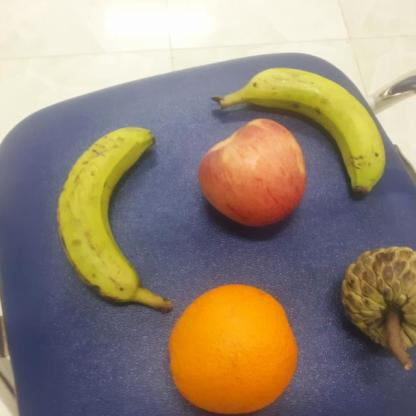annona: (339, 243, 416, 349)
apple: (195, 117, 309, 231)
banana: (242, 65, 387, 196), (52, 124, 157, 304)
orange: (164, 284, 297, 414)
